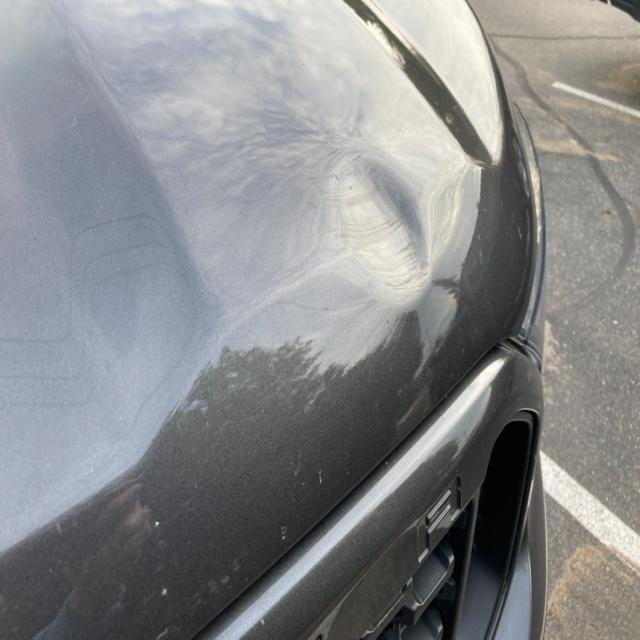dents: (326, 138, 444, 310)
